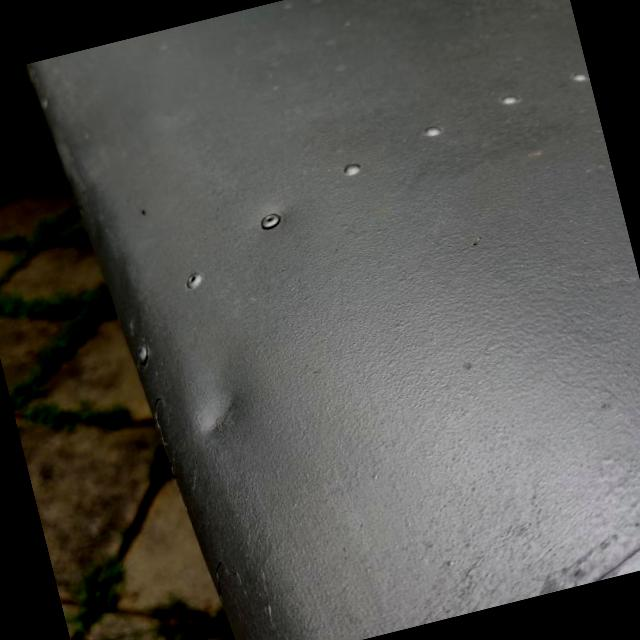dent: (162, 341, 290, 474)
